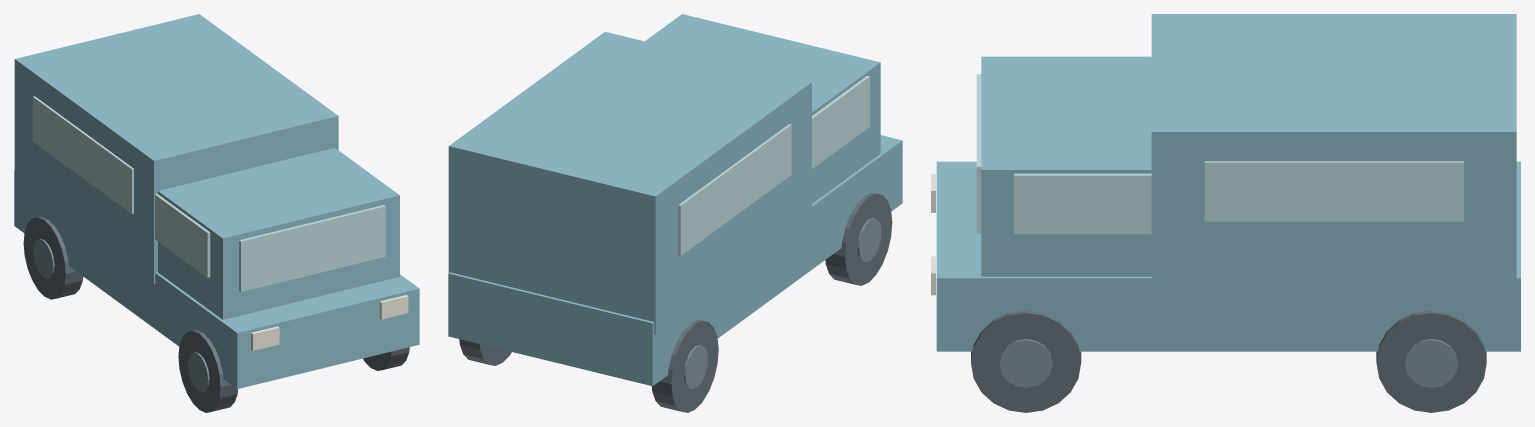
Rendered from van.glb.
3 renders of one model, left to right at view 1: azimuth 30°, elevation 25°; view 2: azimuth 150°, elevation 25°; view 3: azimuth 270°, elevation 25°, orthographic. The views are drawn at different scales.
Visible parts, largest first — view 1: van_013, van_000, van_009, van_010, van_014, van_011, van_003, van_001, van_005, van_002, van_004, van_017 (+1 smaller); view 2: van_013, van_000, van_009, van_014, van_003, van_001, van_011, van_007, van_002, van_004; view 3: van_013, van_000, van_009, van_015, van_012, van_005, van_007, van_006, van_008, van_010.
Part boxes in pixels (x1,y1,x2,y2): van_013: (14,14,338,284); van_000: (14,170,419,388); van_009: (158,148,399,319); van_010: (239,205,385,291); van_014: (32,96,133,213); van_011: (155,194,210,277); van_003: (23,216,83,299); van_001: (178,330,237,412); van_005: (363,347,409,370); van_002: (188,352,209,391); van_004: (33,239,54,278); van_017: (379,295,408,319); van_013: (448,32,811,334); van_000: (448,135,902,386); van_009: (645,14,880,203); van_014: (678,124,791,255); van_003: (651,320,718,412); van_001: (825,193,892,285); van_011: (812,76,869,168); van_007: (459,339,511,365); van_002: (857,218,881,262); van_004: (684,345,707,389); van_013: (1151,14,1516,293); van_000: (936,161,1520,351); van_009: (981,56,1151,276); van_015: (1204,161,1463,221); van_012: (1014,173,1151,234); van_005: (971,310,1081,412); van_007: (1376,310,1486,412); van_006: (999,339,1052,387); van_008: (1405,339,1457,387); van_010: (976,74,981,233).
Size of the model in its own units: 1.8 by 1.9 by 3.64.
